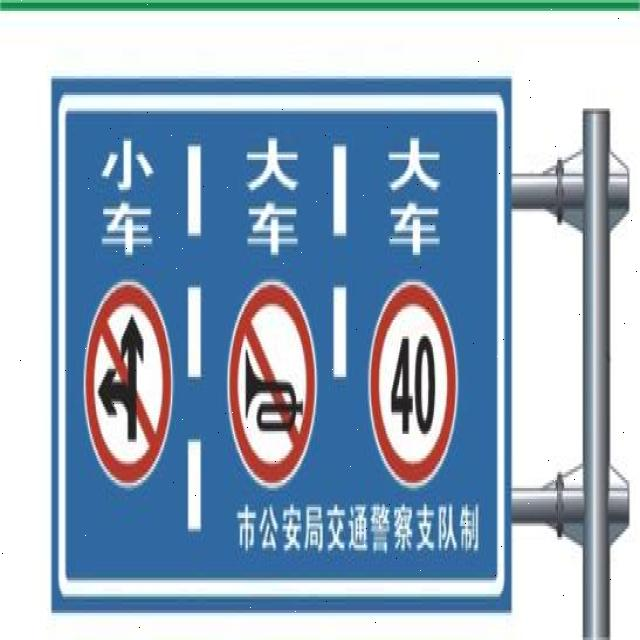speed limit 40: (369, 278, 459, 491)
